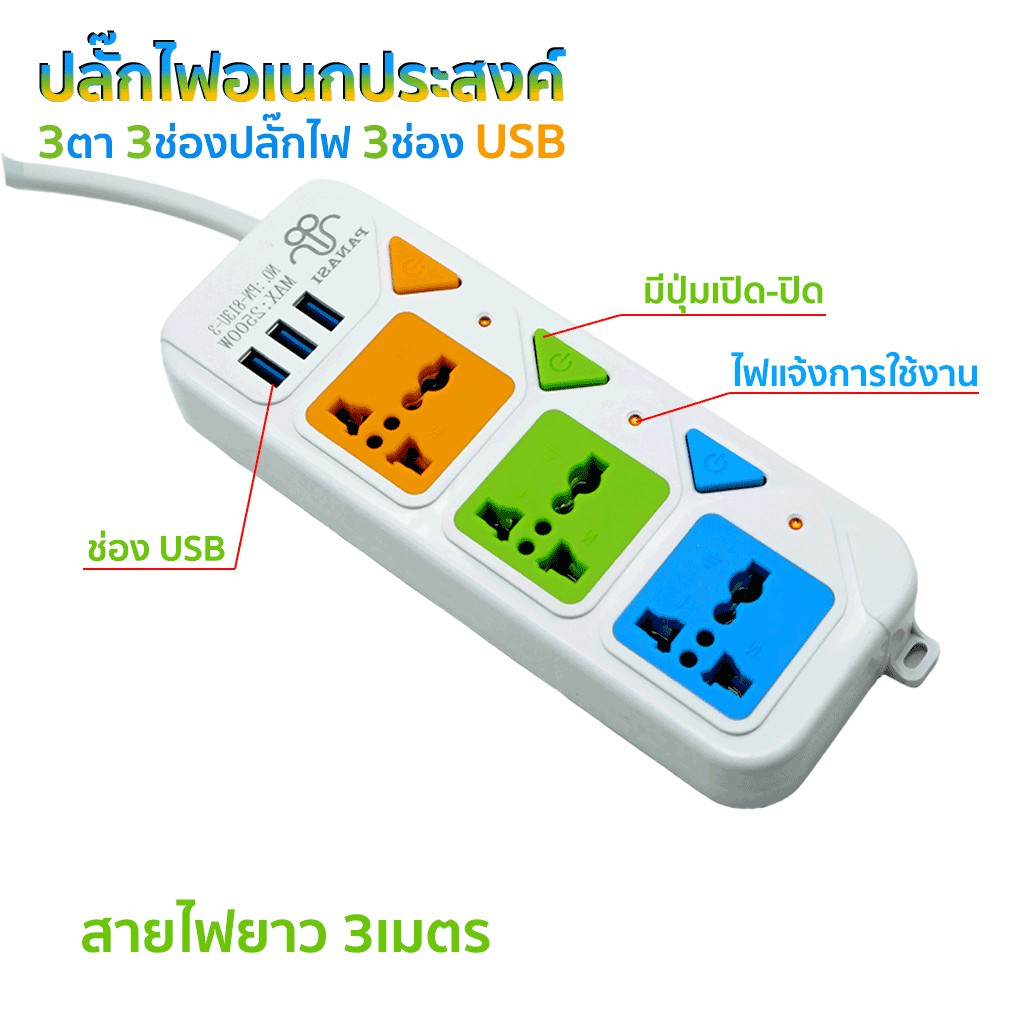Three_eye_plug: (156, 172, 951, 822)
